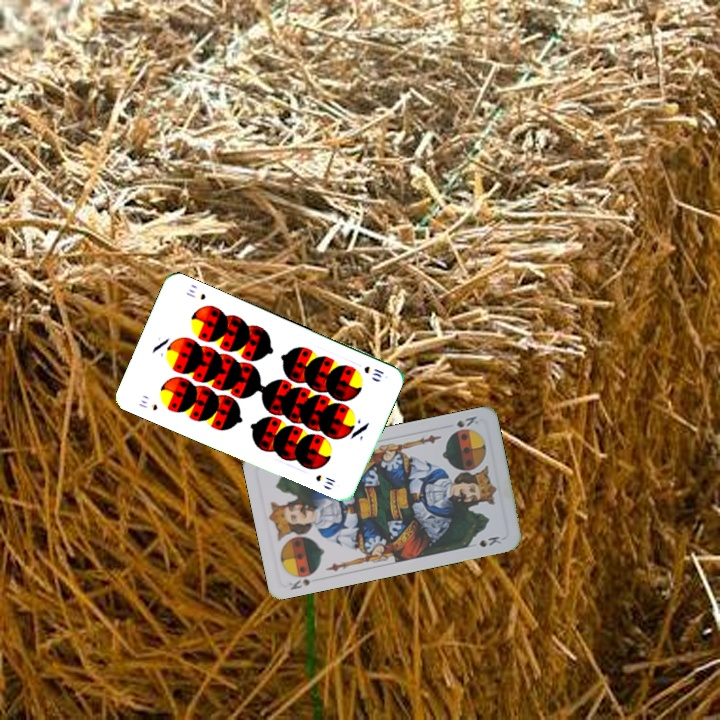S10: (360, 362, 386, 380), (134, 396, 160, 413)
SK: (452, 412, 481, 430), (285, 575, 314, 593)
